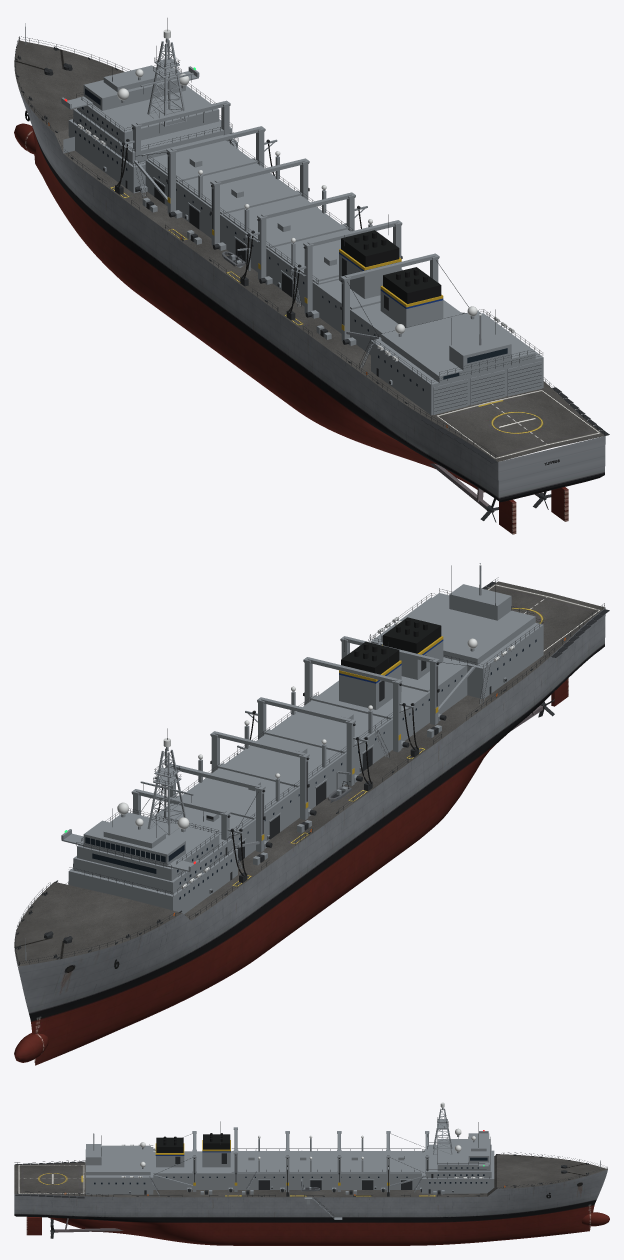
Rendered from supply.glb.
3 renders of one model, top to bottom at view 1: azimuth 30°, elevation 25°; view 2: azimuth 150°, elevation 25°; view 3: azimuth 270°, elevation 25°, orthographic. The views are drawn at different scales.
Parts seen in each view (by area): view 1: supply_static, door_hangar_3, door_hangar_1, door_hangar_2; view 2: supply_static; view 3: supply_static.
Boxes of the visible parts, bbox=[...] form: supply_static: bbox=[14, 18, 609, 534]; door_hangar_3: bbox=[507, 361, 541, 396]; door_hangar_1: bbox=[433, 379, 467, 414]; door_hangar_2: bbox=[470, 370, 504, 405]; supply_static: bbox=[14, 563, 609, 1065]; supply_static: bbox=[14, 1102, 609, 1245].
Bounding box in the file's own units: 35.05 × 58.5 × 231.
16 materials, 2 textured.
